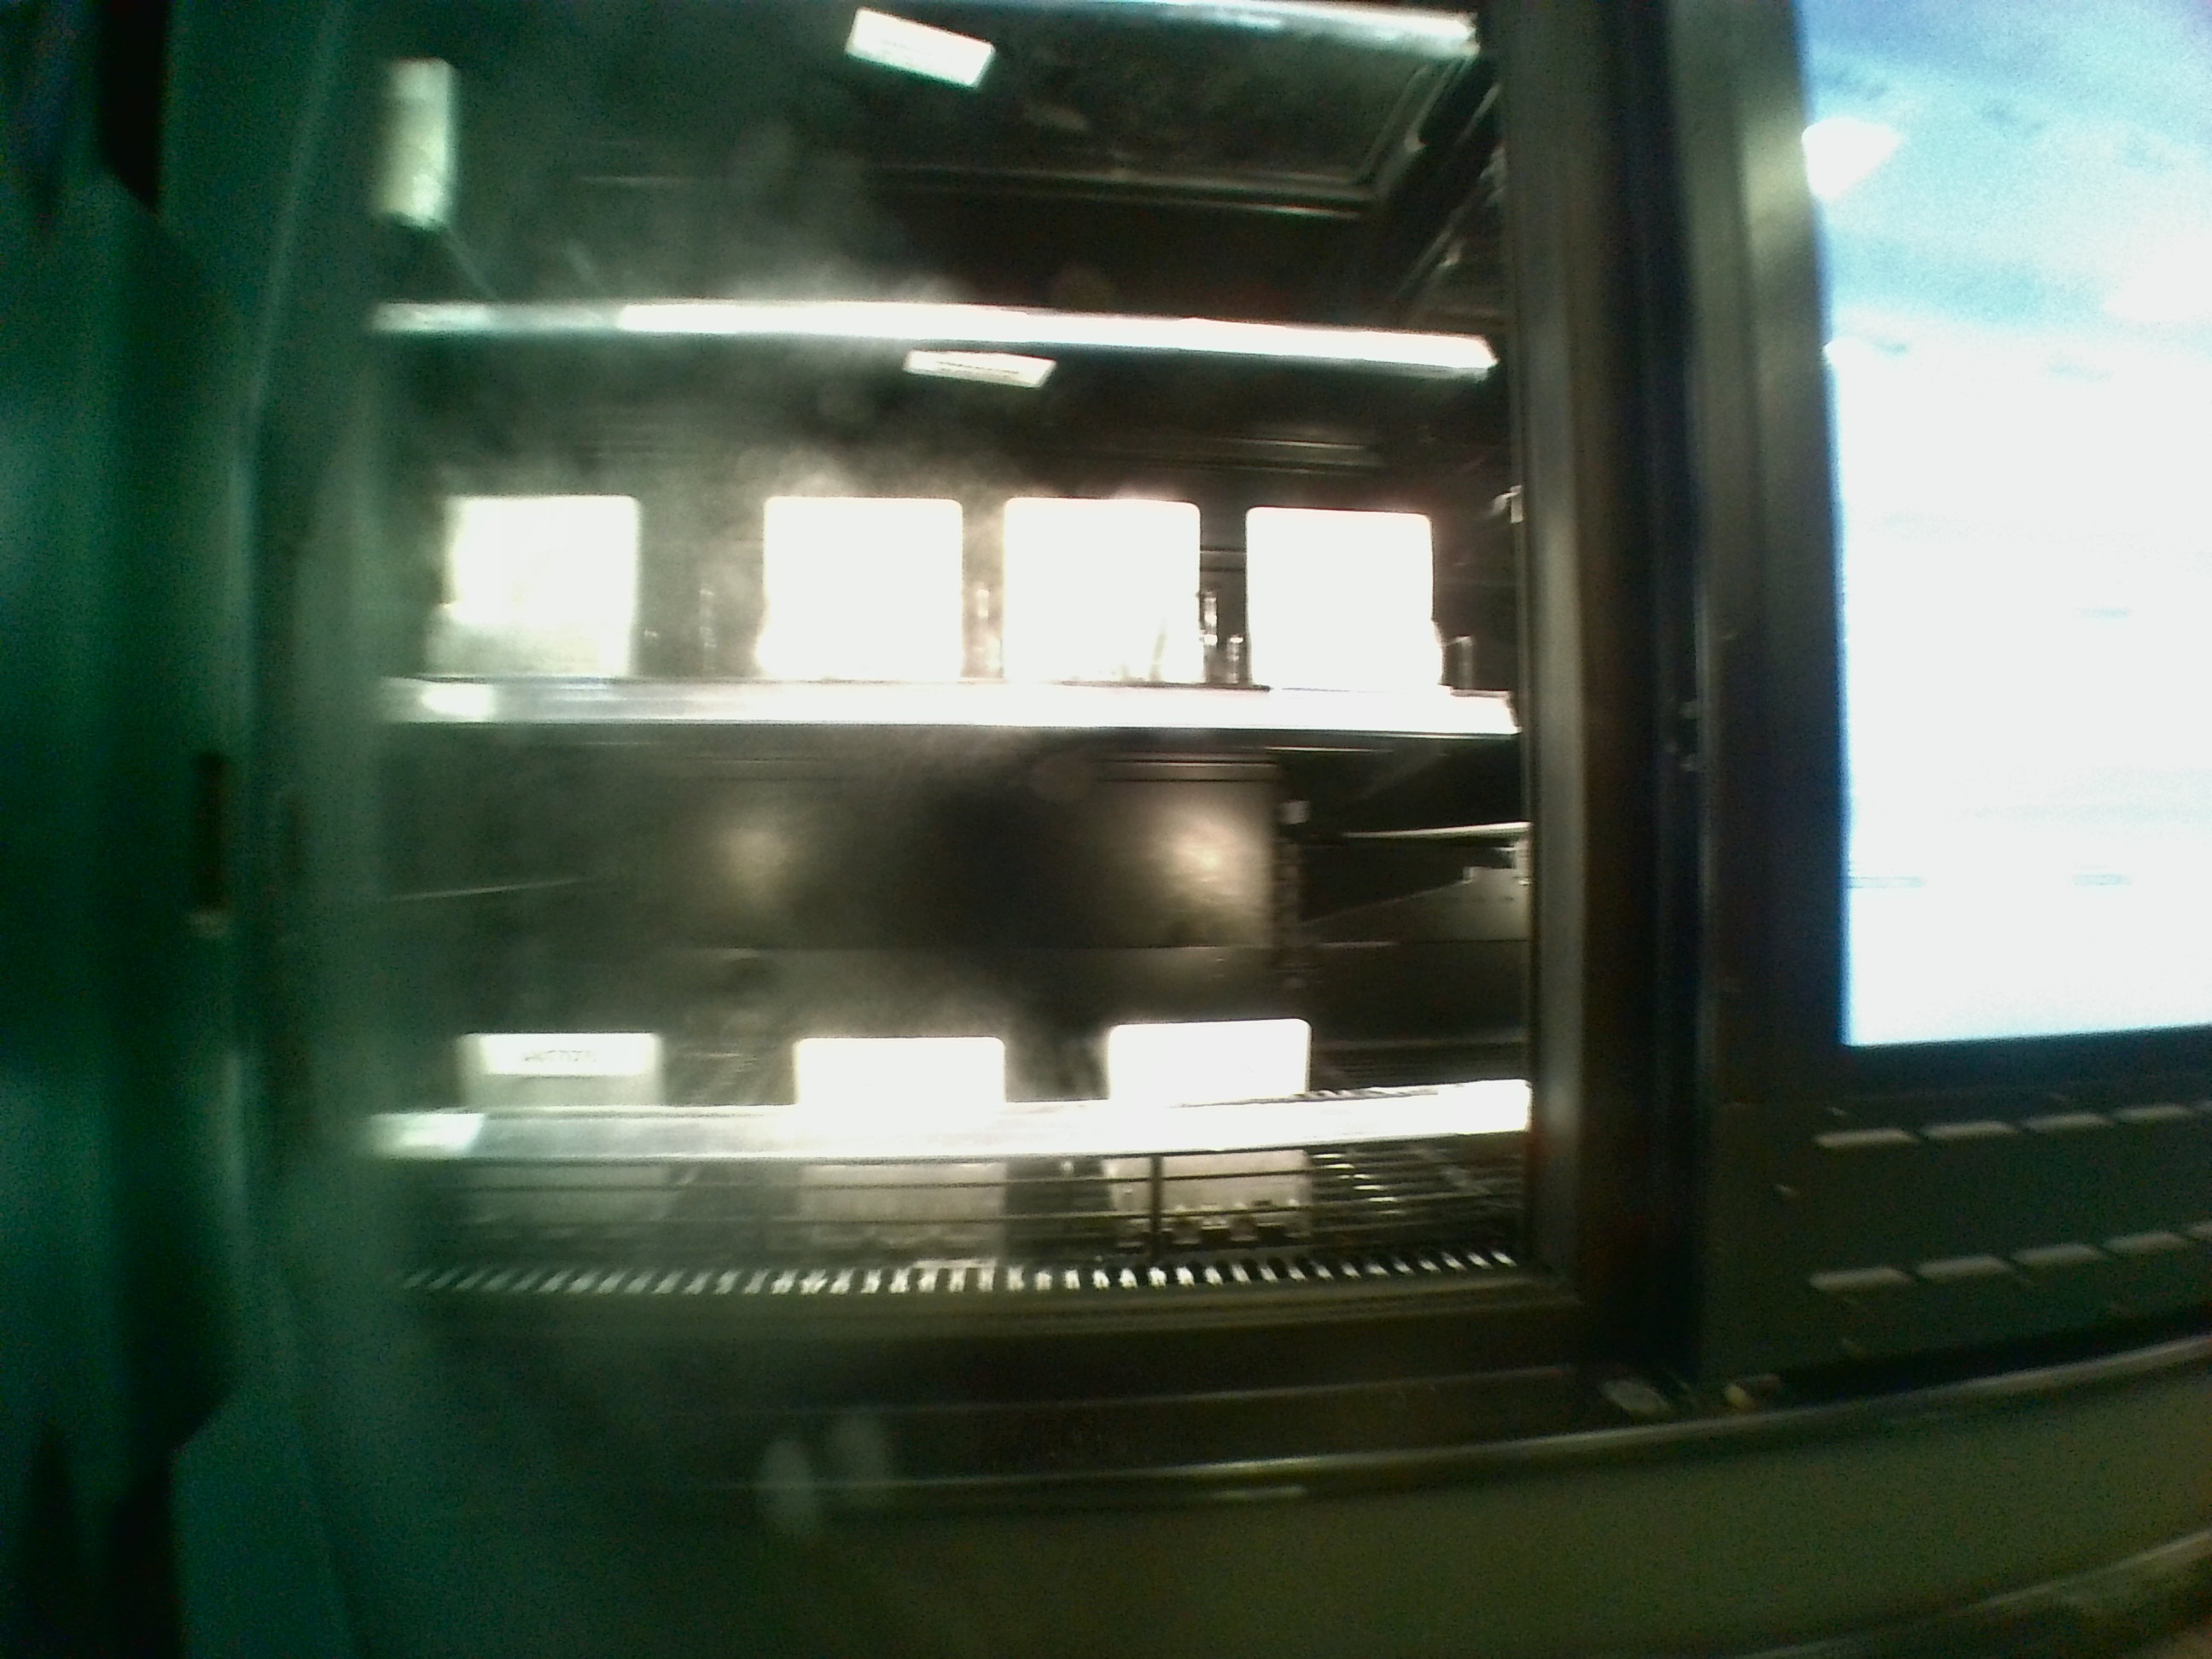shelf: (381, 694, 1507, 1134), (388, 324, 1498, 708)
